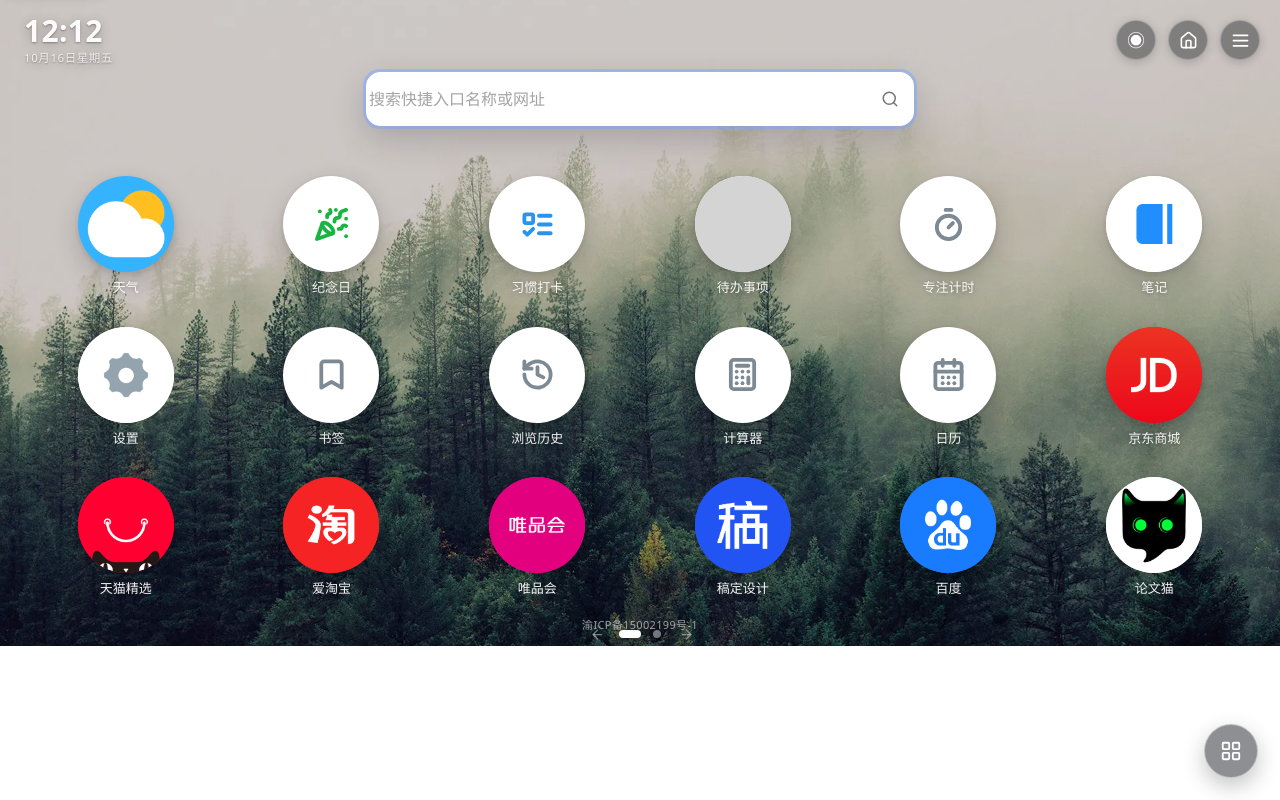
Scenario: new-tab keyboard search › filters launcher shortcuts with Ctrl/Command+F and opens a selected result
Check: the element with class "shortcut-grid-wrap" is shown, box [32,176,1248,598]
Type "计算器" into the search field with placeholder "搜索快捷入口名称或网址" at coordinates (618, 99), box [367,73,868,125]
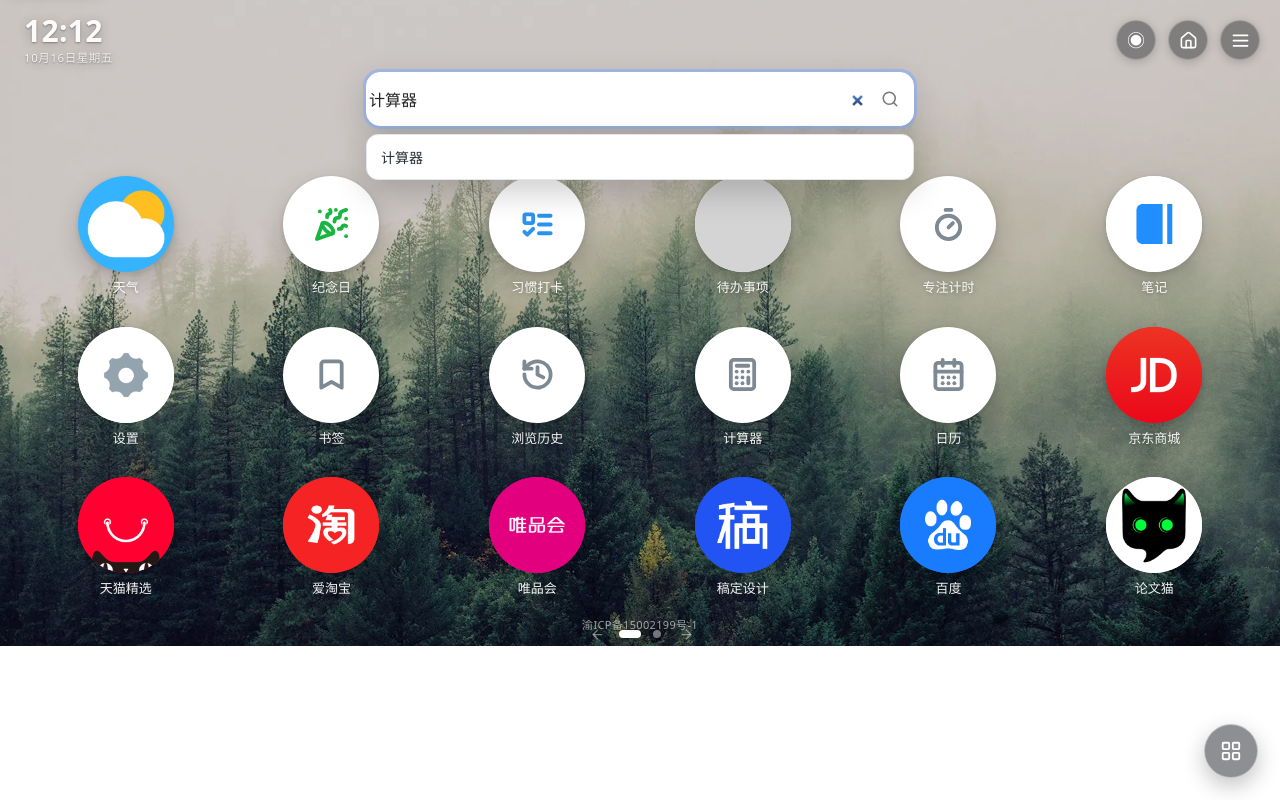
Check: the list with class "local-search-results" reads "计算器", box [367,135,913,179]
Check: the number of options with class "local-search-result" is 1, box [367,135,913,179]
Press ArrowDown in the search field named "搜索快捷入口名称或网址", box [367,73,868,125]
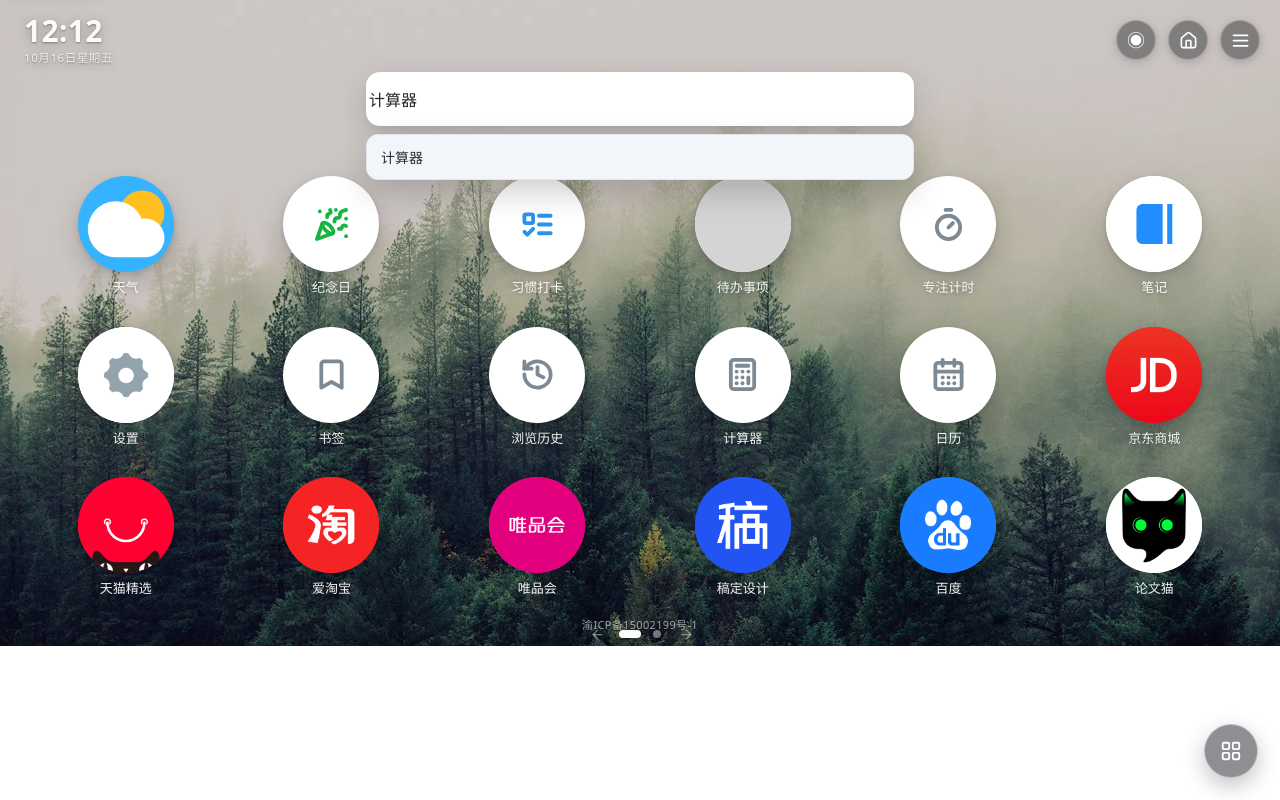
Click the option with class "local-search-result" at coordinates (402, 158), box [367,135,913,179]
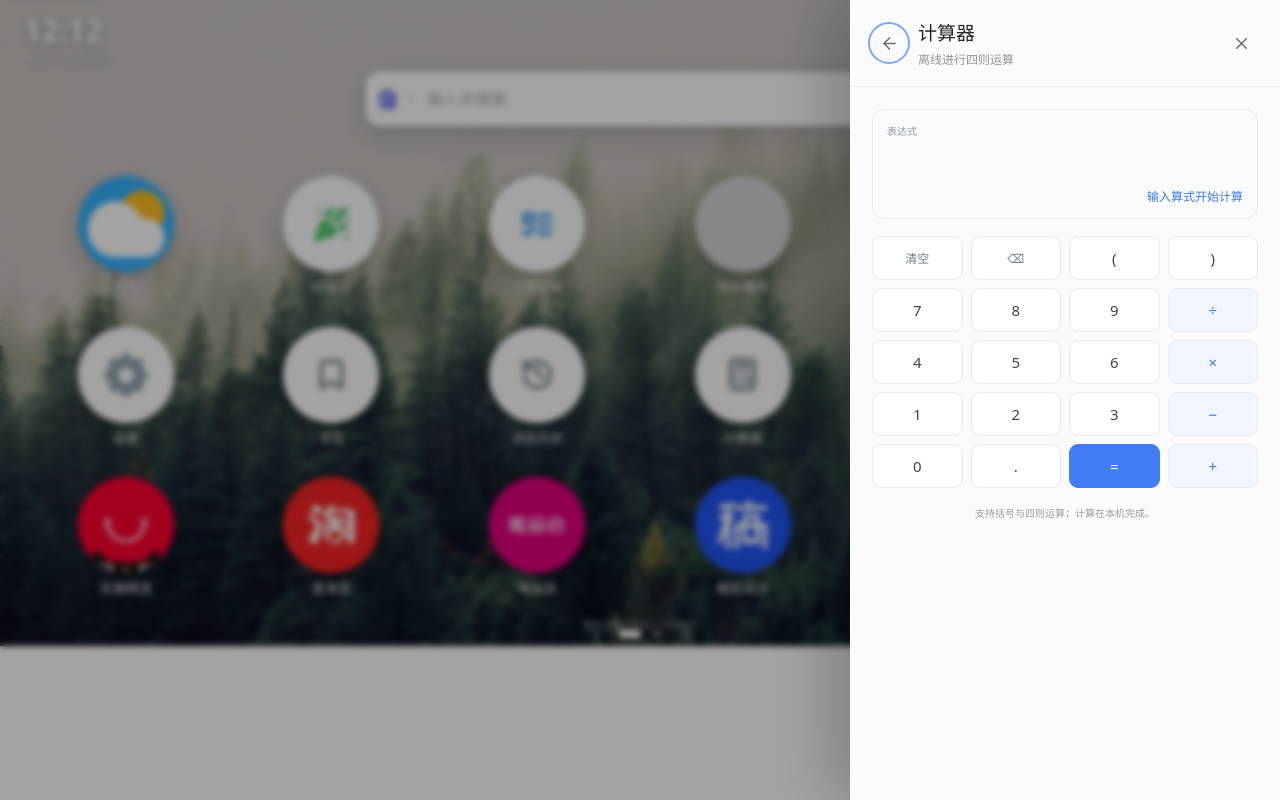
Check: the dialog with class "side-panel" shows "计算器", box [918,20,975,46]
